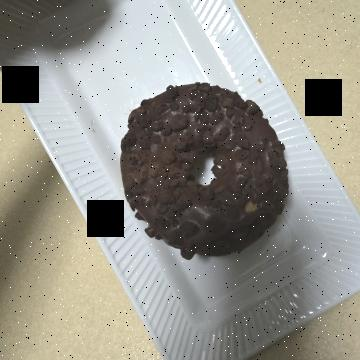doughnut: (79, 59, 280, 256)
